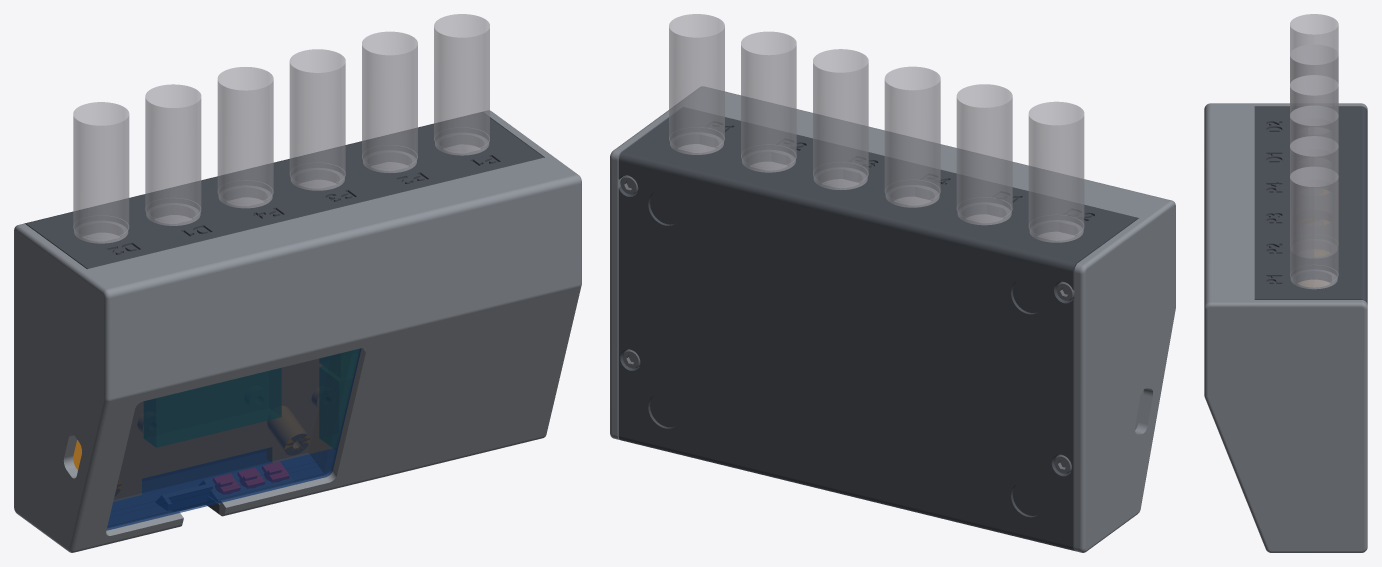
The picture shows the model from 3 angles, left to right: view 1: azimuth 30°, elevation 25°; view 2: azimuth 150°, elevation 25°; view 3: azimuth 270°, elevation 25°; orthographic projection. The views are drawn at different scales.
Parts seen in each view (by area): view 1: 2:Cover, 0:Base, 6:ESP32-S3-Touch-LCD-2.8, 1:Midframe, 13:GX12_P3, 16:GX12_D2, 14:GX12_P4, 15:GX12_D1, 11:GX12_P1, 12:GX12_P2, 10:Verteilerplatine, 8:Mux_HW-617 (+1 smaller); view 2: 0:Base, 2:Cover, 14:GX12_P4, 15:GX12_D1, 16:GX12_D2, 12:GX12_P2, 13:GX12_P3, 11:GX12_P1; view 3: 2:Cover, 0:Base, 11:GX12_P1, 12:GX12_P2, 15:GX12_D1, 13:GX12_P3, 14:GX12_P4, 16:GX12_D2.
Boxes of the visible parts, bbox=[...] form: 2:Cover: bbox=[14, 110, 581, 552]; 0:Base: bbox=[24, 112, 543, 527]; 6:ESP32-S3-Touch-LCD-2.8: bbox=[106, 348, 361, 530]; 1:Midframe: bbox=[73, 359, 331, 501]; 13:GX12_P3: bbox=[289, 49, 345, 190]; 16:GX12_D2: bbox=[73, 102, 129, 243]; 14:GX12_P4: bbox=[217, 67, 273, 208]; 15:GX12_D1: bbox=[145, 84, 201, 225]; 11:GX12_P1: bbox=[434, 14, 489, 155]; 12:GX12_P2: bbox=[362, 31, 417, 172]; 10:Verteilerplatine: bbox=[144, 368, 280, 446]; 8:Mux_HW-617: bbox=[320, 366, 352, 449]; 0:Base: bbox=[618, 107, 1138, 551]; 2:Cover: bbox=[610, 86, 1175, 552]; 14:GX12_P4: bbox=[884, 66, 940, 207]; 15:GX12_D1: bbox=[956, 84, 1012, 225]; 16:GX12_D2: bbox=[1028, 101, 1084, 242]; 12:GX12_P2: bbox=[741, 31, 796, 172]; 13:GX12_P3: bbox=[813, 49, 868, 189]; 11:GX12_P1: bbox=[669, 14, 724, 154]; 2:Cover: bbox=[1204, 103, 1367, 552]; 0:Base: bbox=[1254, 106, 1367, 304]; 11:GX12_P1: bbox=[1290, 166, 1338, 289]; 12:GX12_P2: bbox=[1290, 136, 1338, 257]; 15:GX12_D1: bbox=[1290, 44, 1338, 112]; 13:GX12_P3: bbox=[1290, 105, 1338, 173]; 14:GX12_P4: bbox=[1290, 75, 1338, 143]; 16:GX12_D2: bbox=[1290, 14, 1338, 82].
Size of the model in its own units: 152 by 125 by 52.
